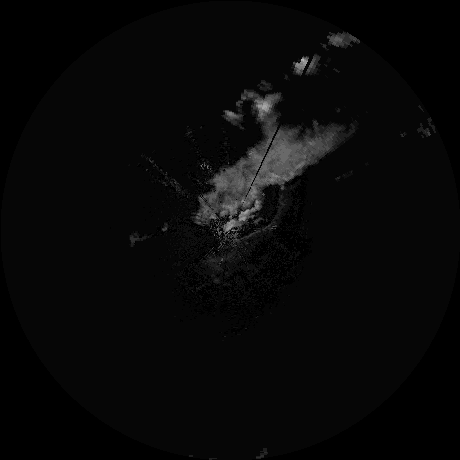frontgust: (242, 189, 283, 242)
